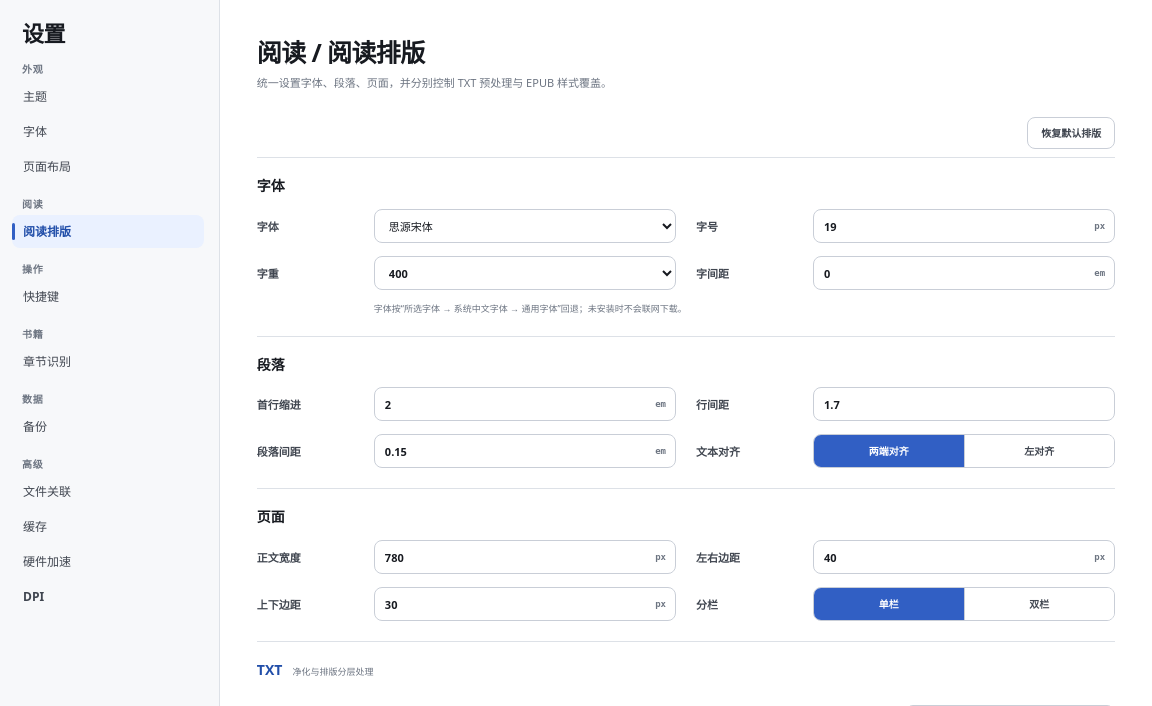
Test: SettingsView › keeps font choices while removing the free-font explanation heading
The image size is (1152, 706).
Click the button "字体". click: (108,132)
box: [12, 115, 204, 148]
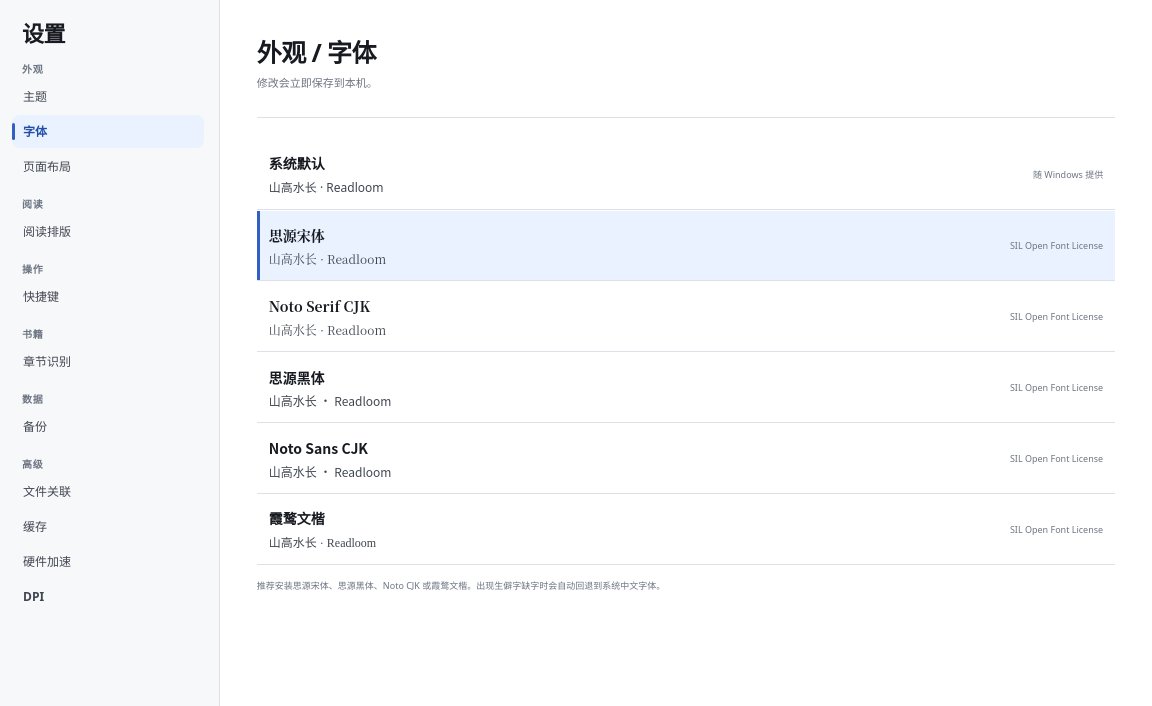
Expected: the button "系统默认 山高水长 · Readloom 随 Windows 提供" is shown, [257, 140, 1115, 210]
Expected: the button "思源宋体 山高水长 · Readloom SIL Open Font License" is shown, [257, 211, 1115, 281]
